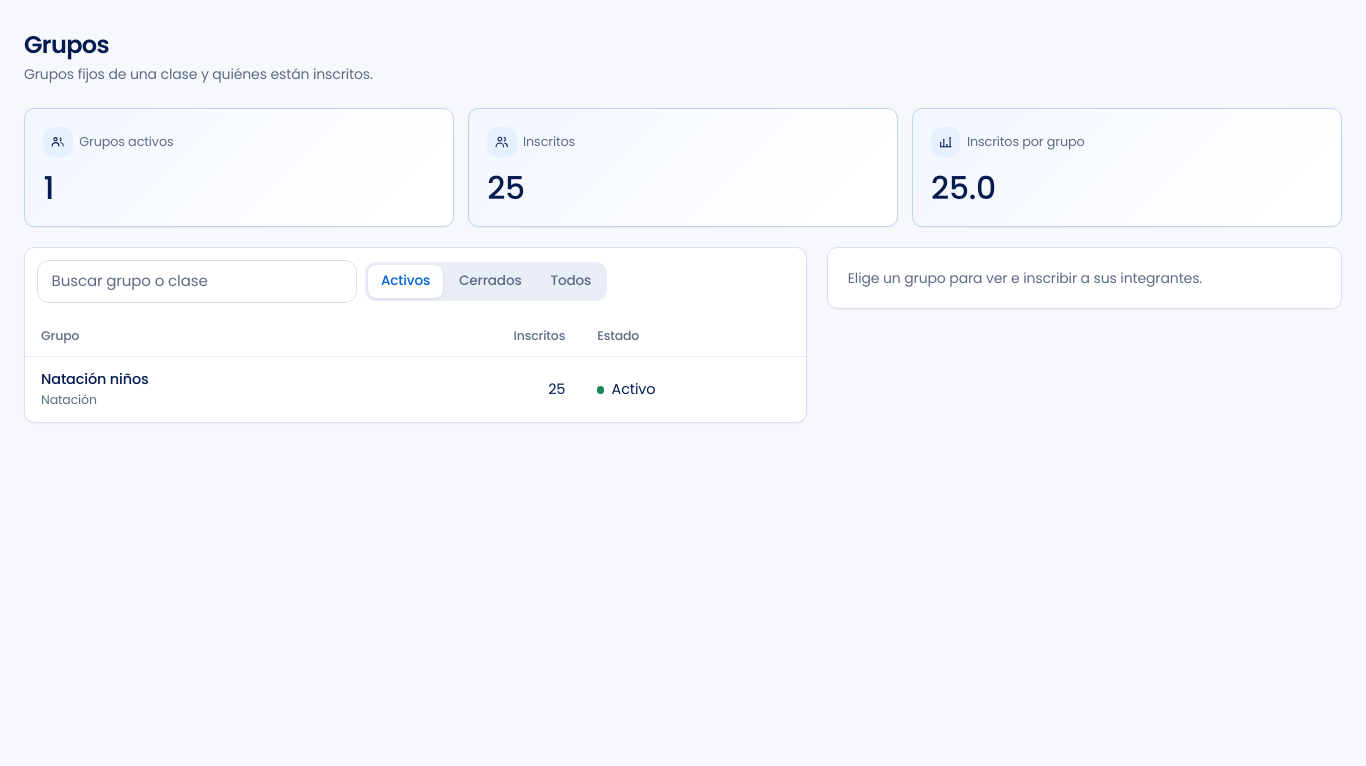
Scenario: inscritos de un grupo › se cuentan todos, van por páginas y se buscan
Click the row "Natación niños Natación 25 Activo" at (415, 389), box top-left (25, 357), bottom-right (806, 422)
(page scrolled)
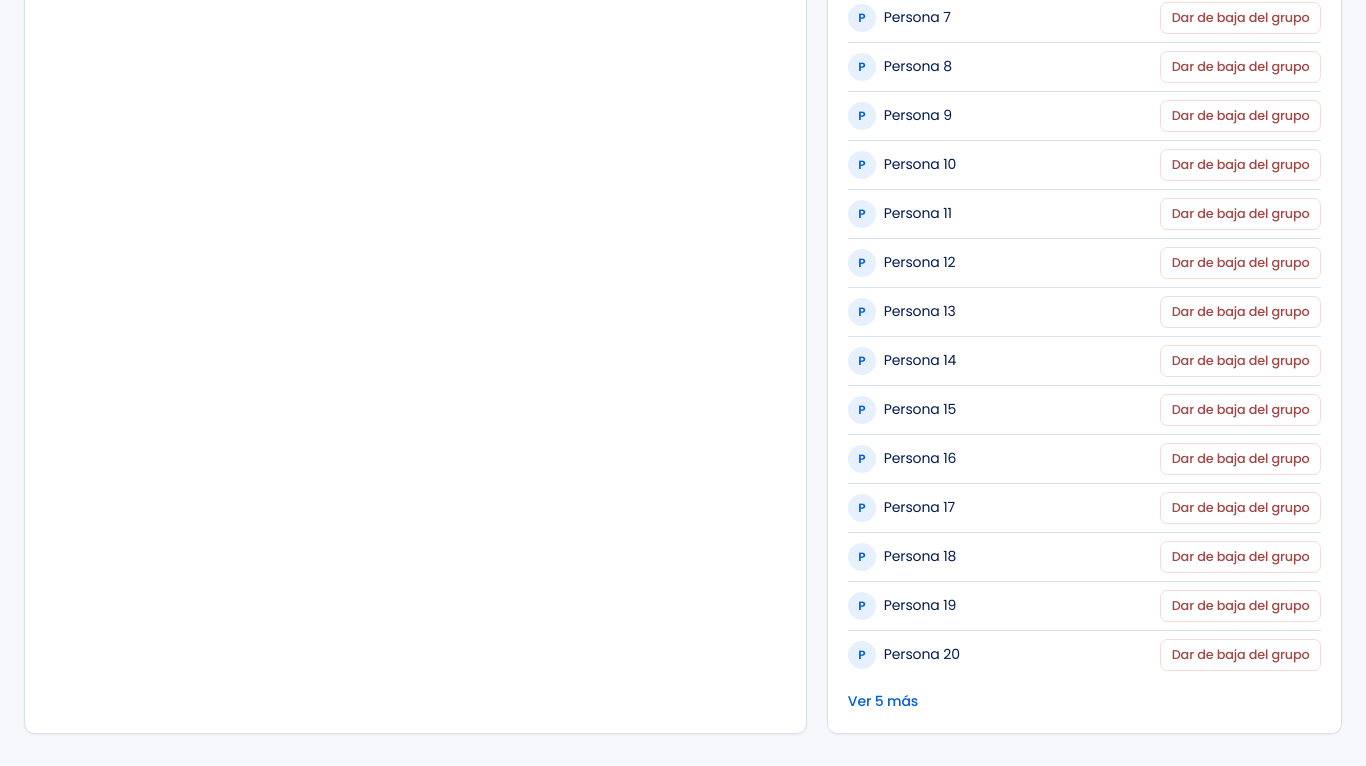
Click the button "Ver 5 más" at (883, 701), box top-left (848, 691), bottom-right (918, 711)
(page scrolled)
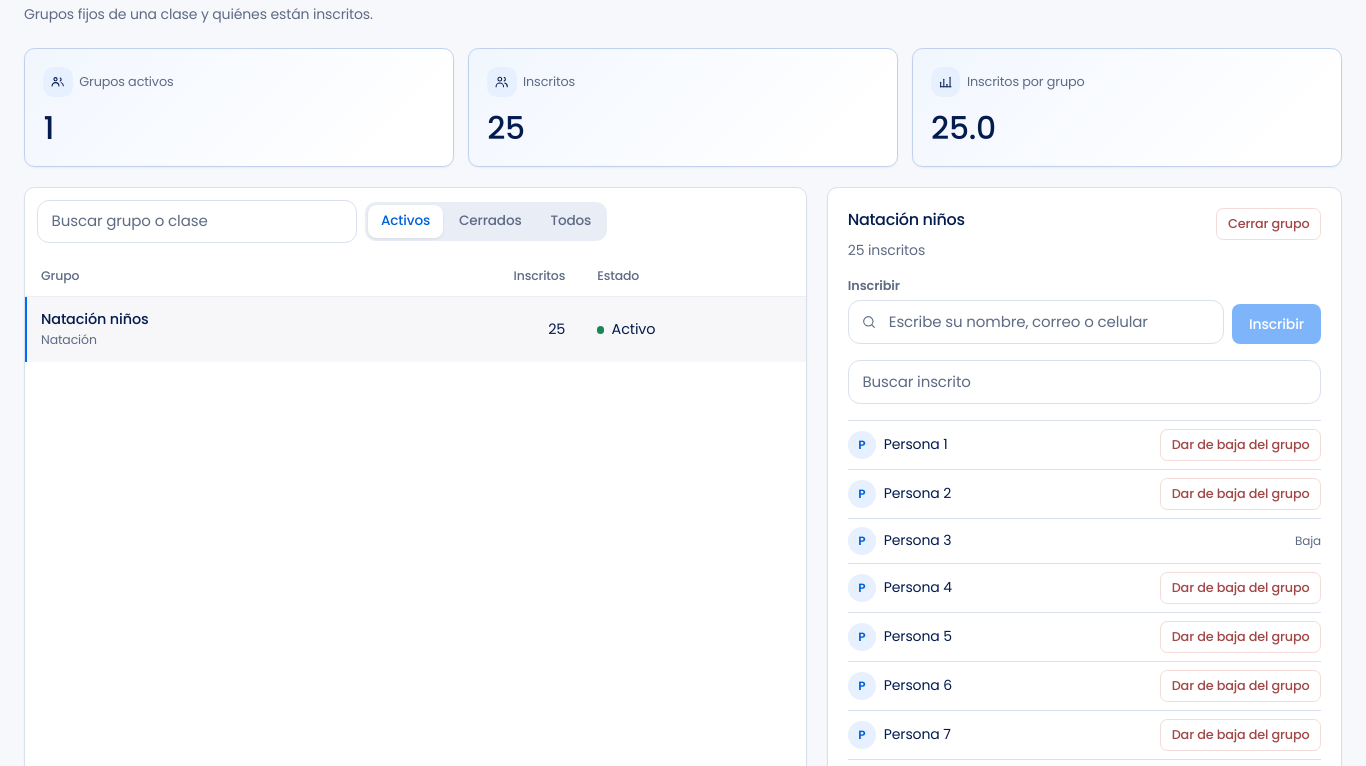
Check: the number of list items is 25
Type "persona 7" into the search field with placeholder "Buscar inscrito" at (1084, 382), box top-left (848, 360), bottom-right (1321, 404)
Wait 300 ms
(page scrolled)
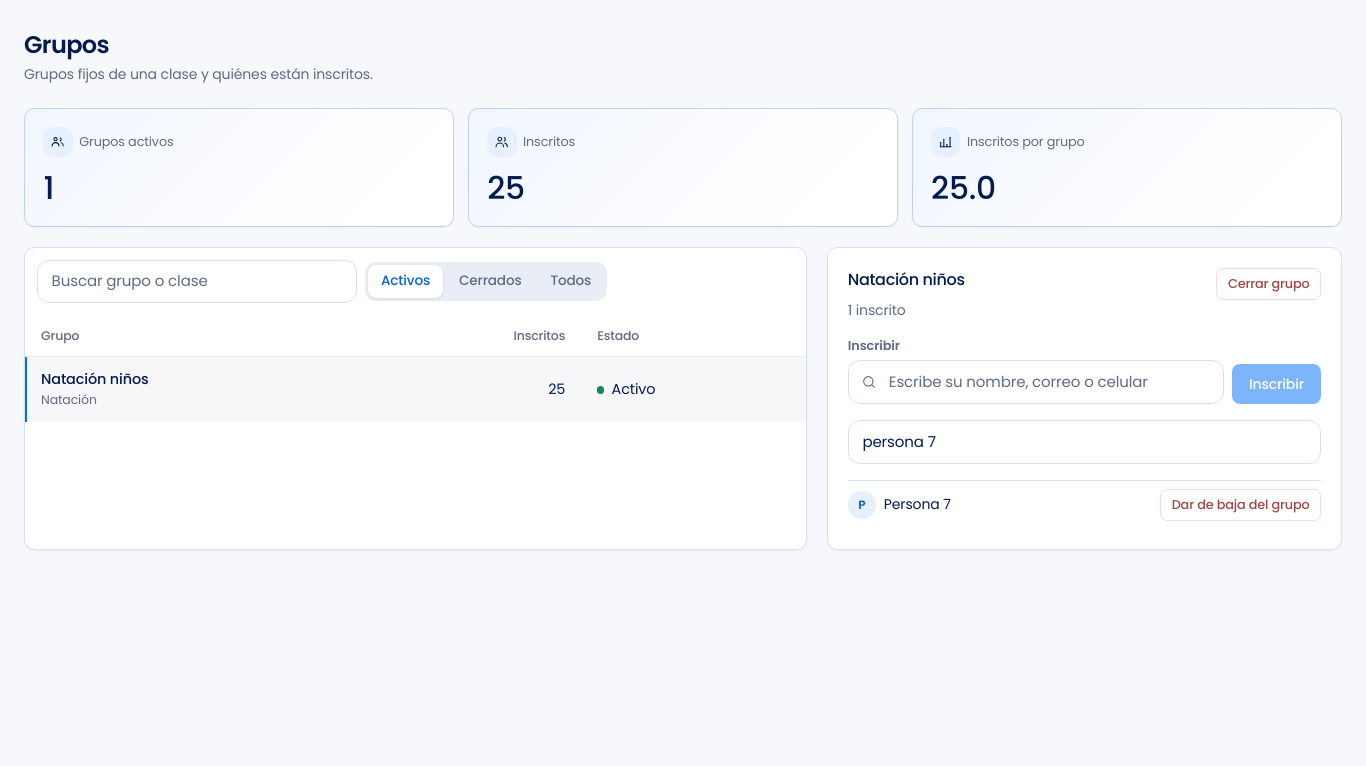
Check: the number of list items is 1, box top-left (848, 480), bottom-right (1321, 529)
